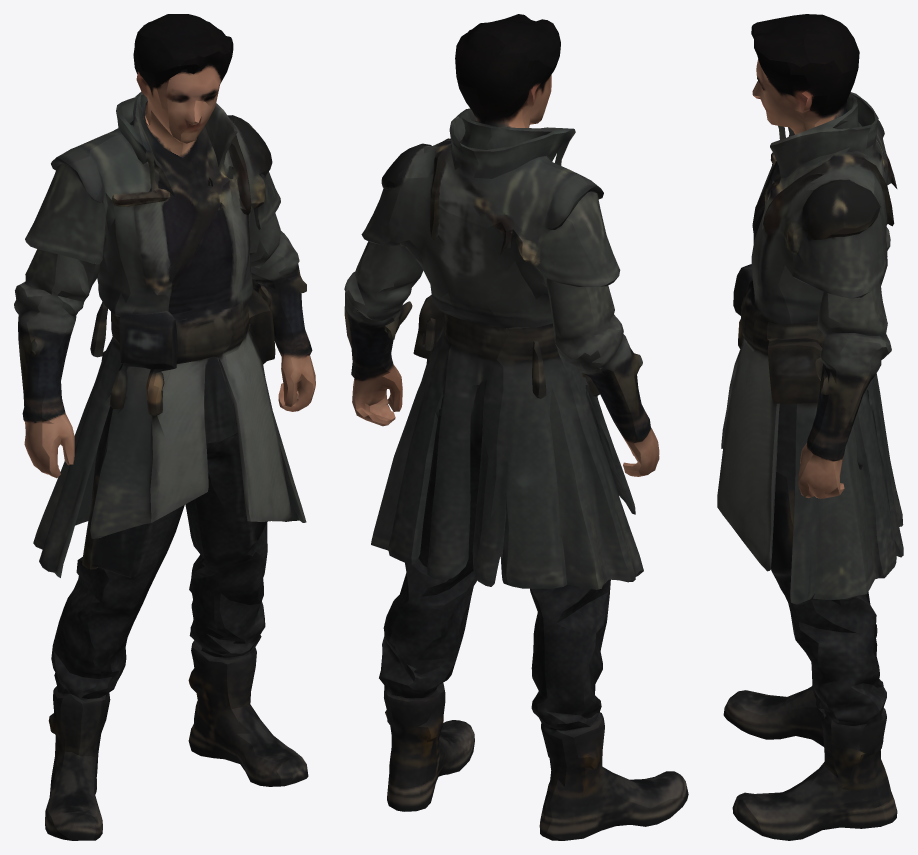
Rendered from N04-original.glb.
3 views of the same model, side by side, from view 1: azimuth 30°, elevation 25°; view 2: azimuth 150°, elevation 25°; view 3: azimuth 270°, elevation 25° (orthographic).
Parts seen in each view (by area): view 1: world; view 2: world; view 3: world.
Boxes of the visible parts, x1,y1,x2,y2 form: world: (14,14,315,840); world: (344,14,688,840); world: (717,14,903,840).
Bounding box in the file's own units: 3.24 × 8.19 × 1.8.
Materials: 1 (1 with a texture image).
